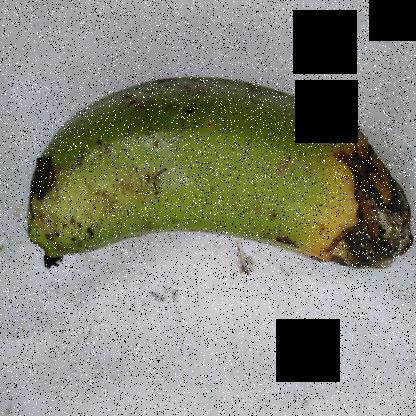unripe: (19, 53, 317, 304)
